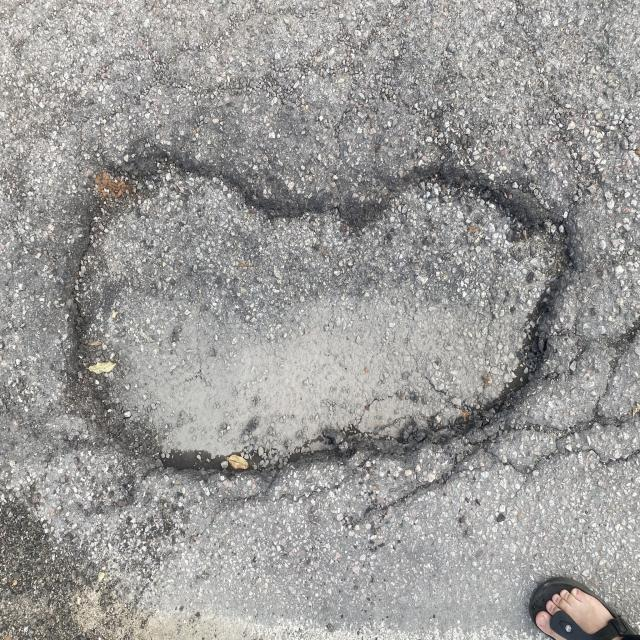pothole: (30, 124, 609, 492)
